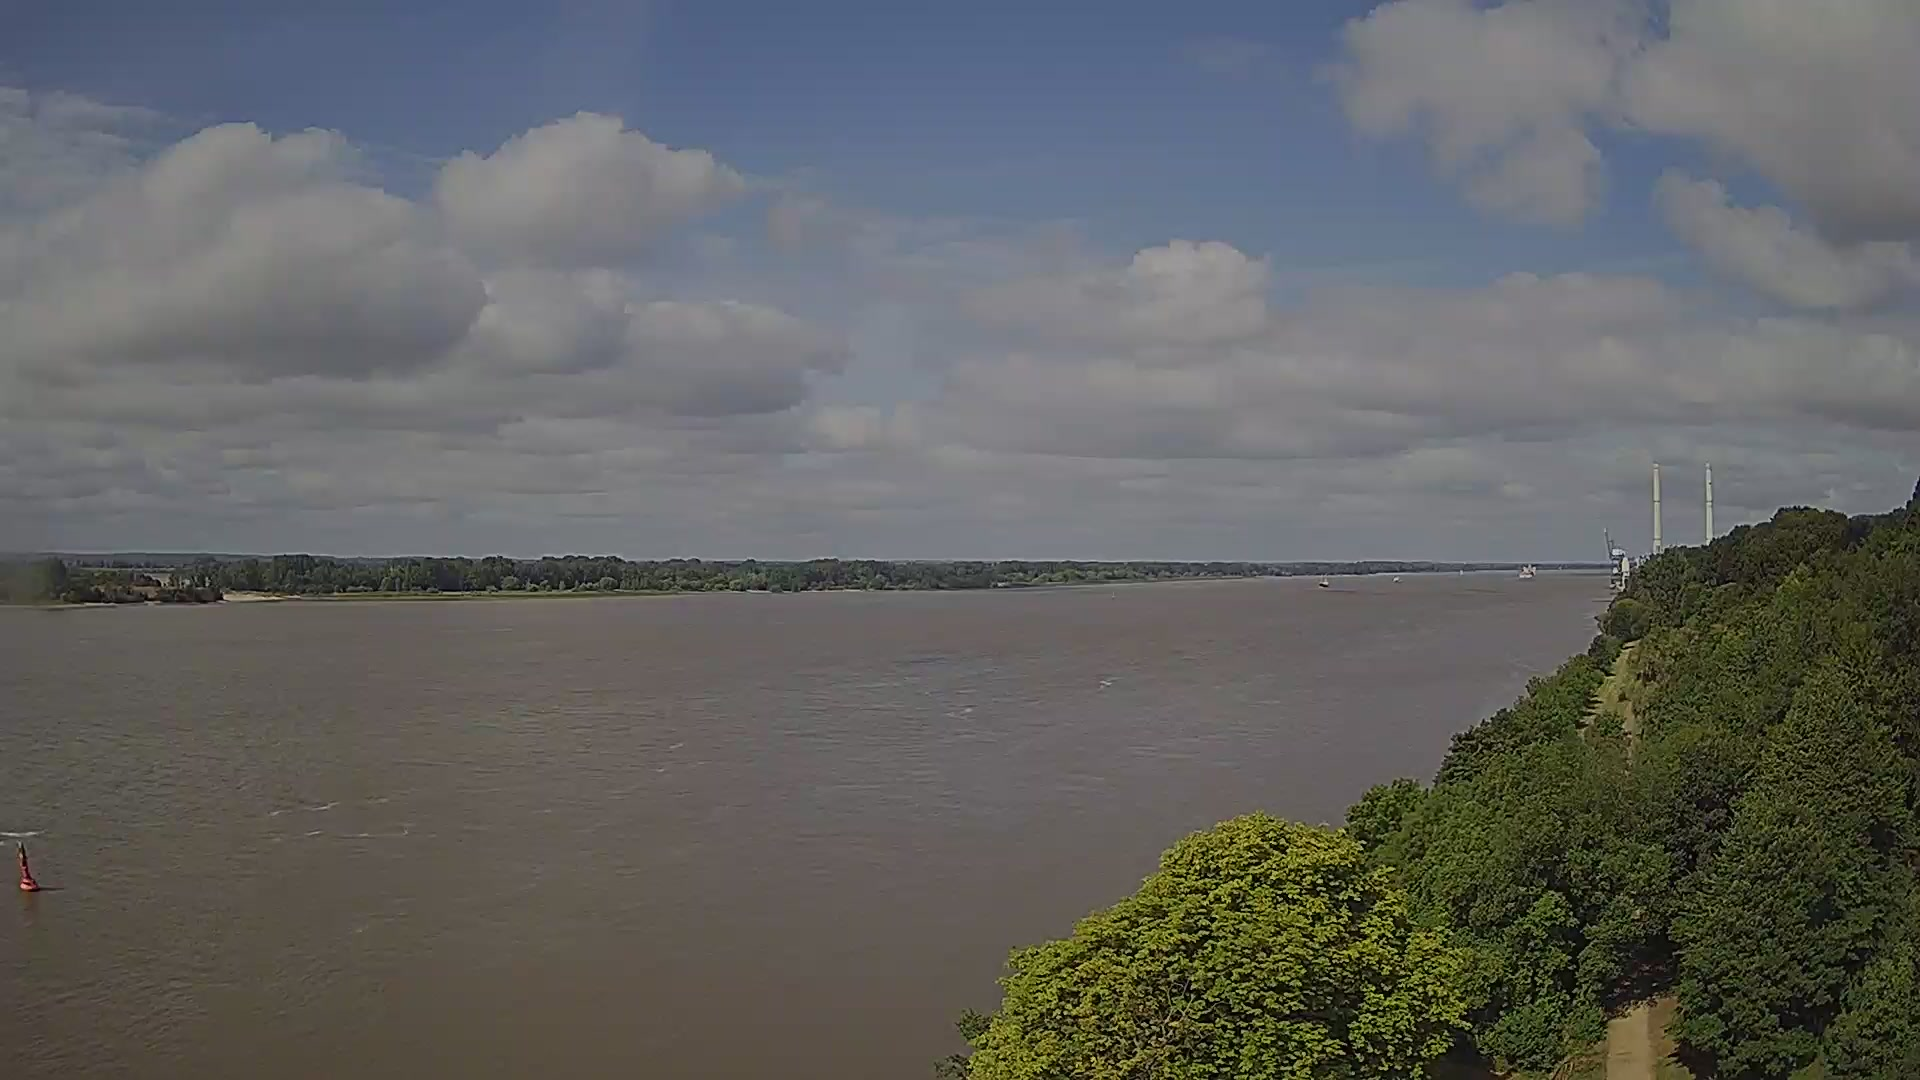sea: (1518, 562, 1536, 578), (1319, 571, 1331, 585), (1393, 574, 1400, 582), (1458, 568, 1464, 575)
